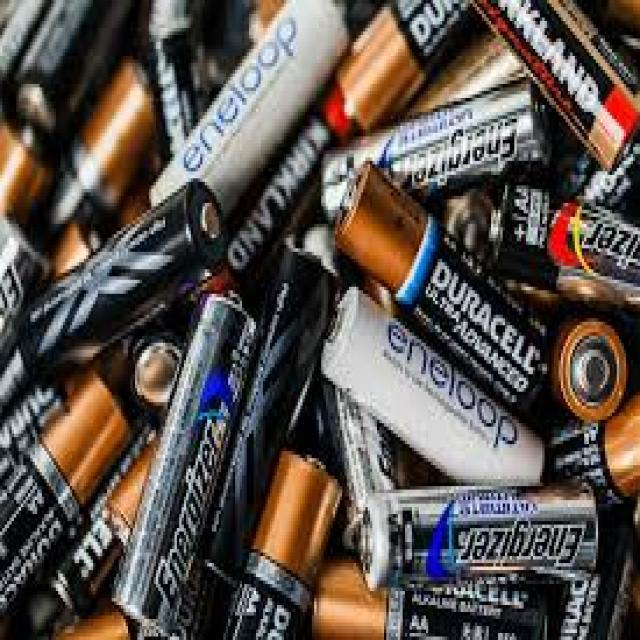battery: (334, 161, 551, 418), (116, 290, 252, 640), (322, 286, 546, 480), (144, 0, 349, 205), (20, 179, 226, 380), (468, 0, 640, 171), (360, 483, 602, 595)
